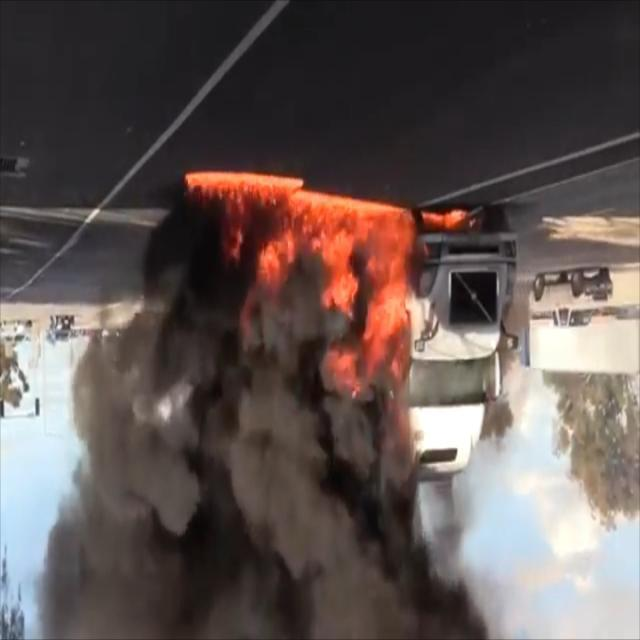fire: (182, 168, 466, 436)
